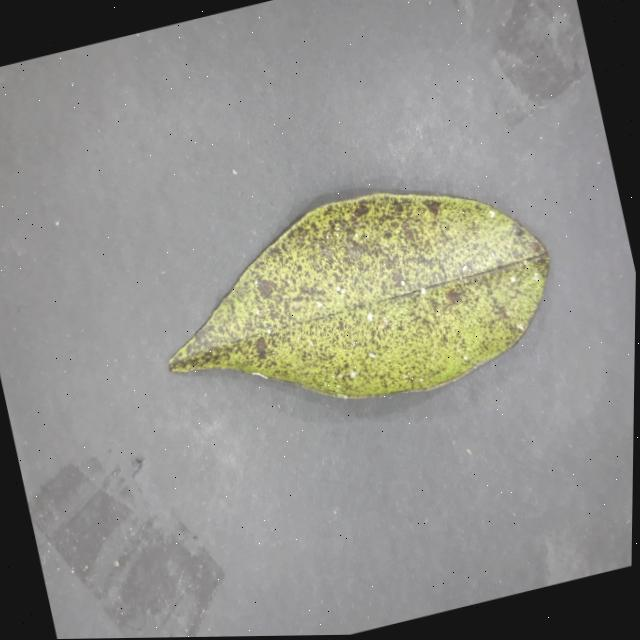greasy_spot: (168, 193, 548, 397)
